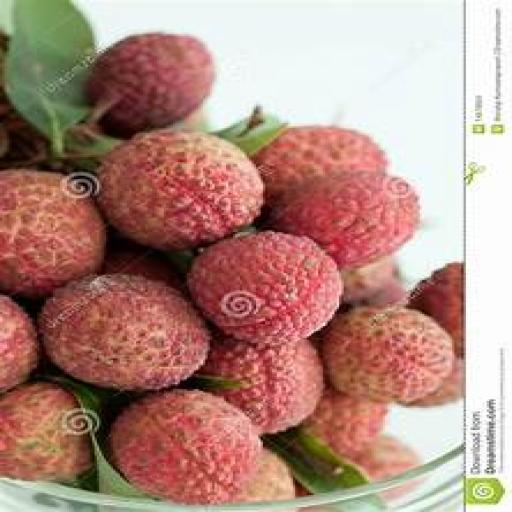lychee: (100, 130, 262, 250), (40, 275, 209, 390), (111, 390, 262, 503), (190, 233, 341, 344), (270, 171, 419, 269), (0, 169, 106, 298), (88, 33, 214, 136), (321, 308, 454, 402), (201, 340, 322, 433), (254, 127, 387, 203), (0, 383, 92, 481), (305, 388, 387, 457), (409, 263, 463, 356), (102, 241, 184, 288), (0, 296, 39, 392), (351, 436, 422, 481), (236, 449, 295, 503), (342, 256, 396, 302), (411, 359, 463, 406), (365, 277, 408, 307)
